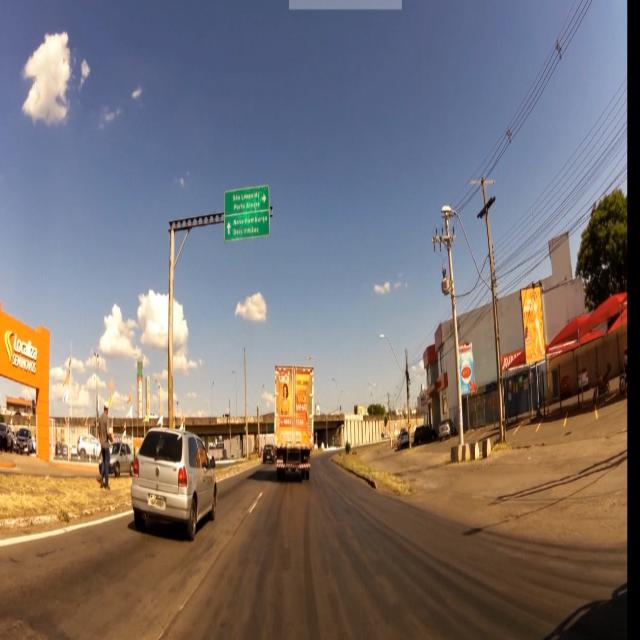I-4: (226, 191, 270, 240)
